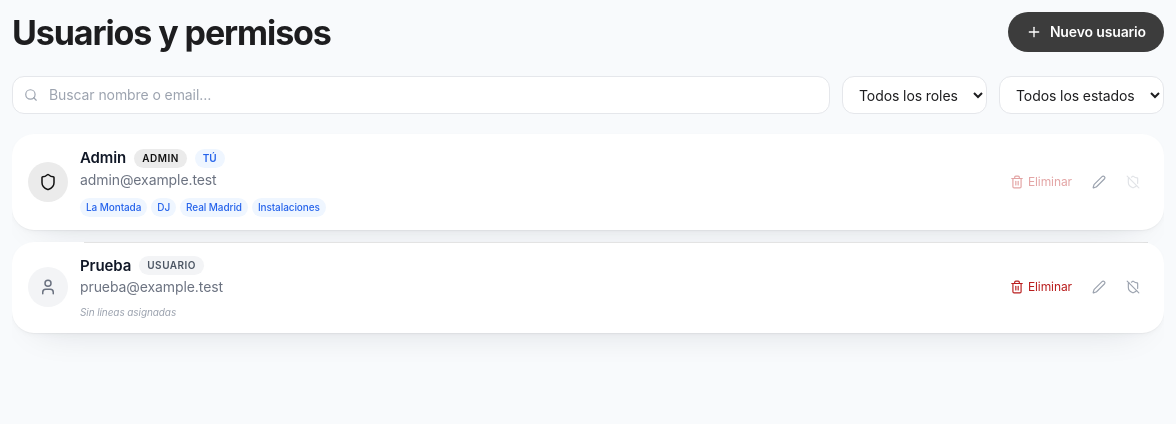
Scenario: Eliminar usuarios › requiere confirmar y protege la cuenta propia
Check: the button with aria-label "Eliminar usuario Admin" is disabled, box [1002,160,1080,204]
Click the button with aria-label "Eliminar usuario Prueba".
click(1041, 287)  # box [1002,265,1080,309]
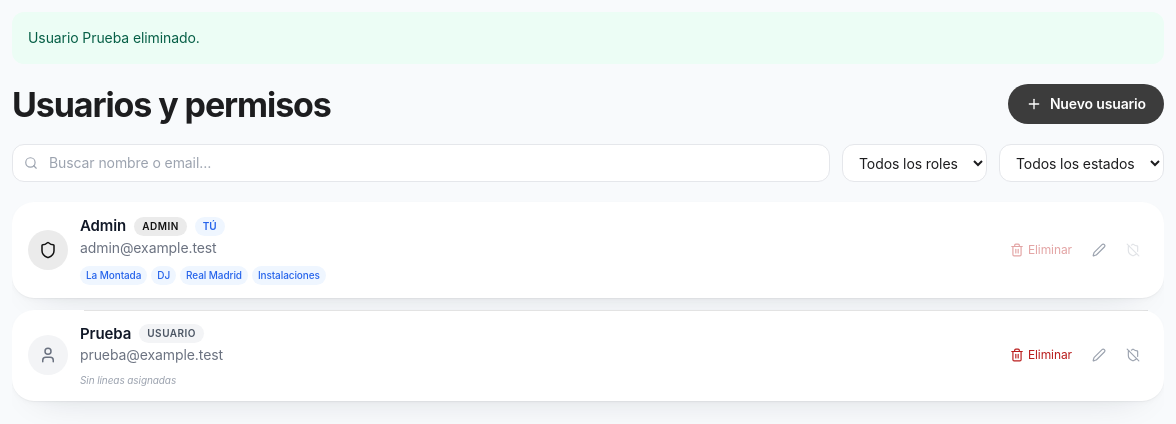
Check: the message shows "eliminado", box [28,29,200,46]
